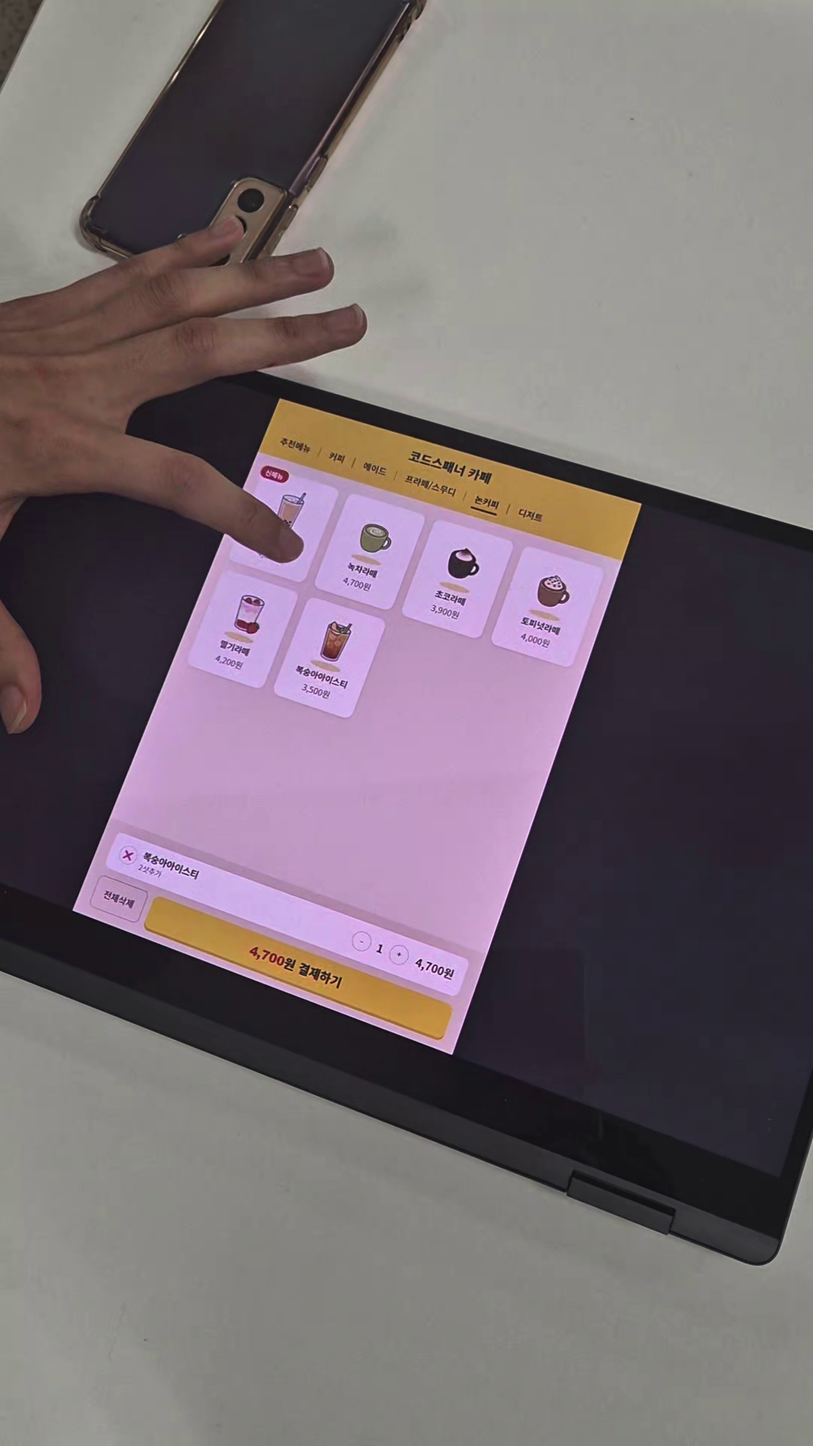action_button: (140, 894, 457, 1044), (84, 872, 153, 927)
cart_item: (102, 827, 471, 1001)
category_tab: (402, 470, 460, 499), (274, 434, 316, 458), (357, 458, 392, 482), (516, 505, 547, 526), (471, 493, 503, 512), (324, 448, 347, 467)
menu_back: (181, 565, 302, 697), (488, 543, 609, 674), (310, 489, 432, 617), (271, 595, 391, 725), (398, 516, 517, 643)
menu_name: (290, 662, 352, 692), (516, 613, 564, 638), (342, 557, 384, 581), (214, 636, 254, 660), (430, 586, 470, 609)
menu_price: (296, 680, 334, 703), (516, 629, 555, 651), (338, 572, 374, 595), (211, 651, 246, 673), (426, 601, 462, 622)
